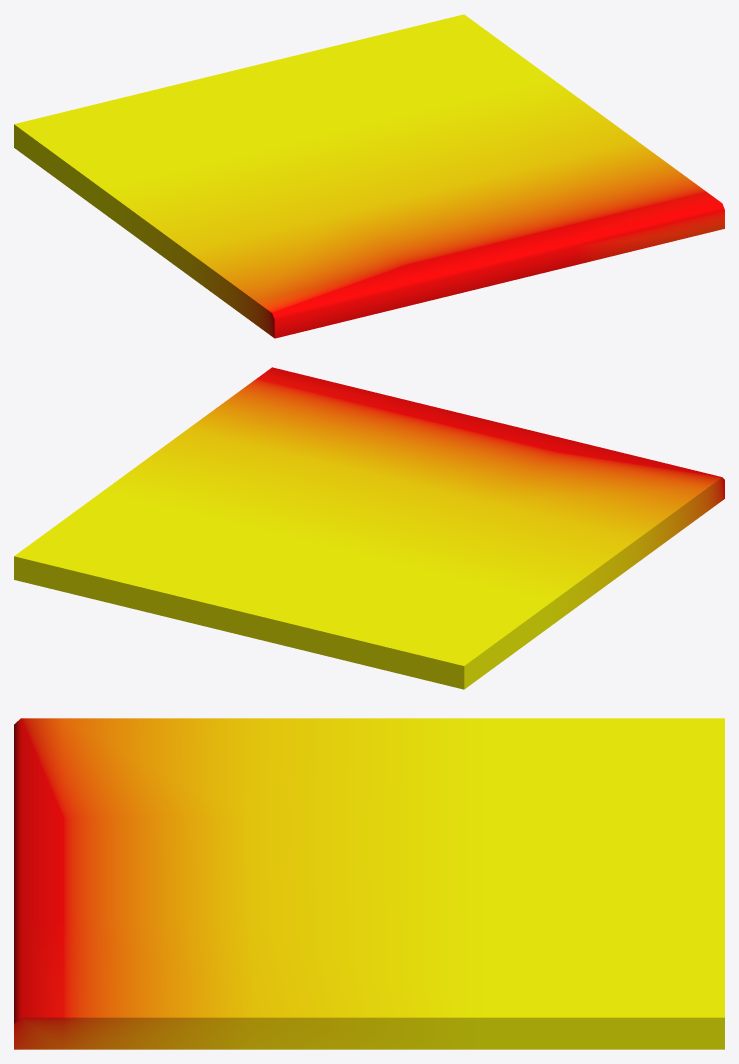
File: sidewalk-straight-3m.glb
3 views of the same model, one above another, from view 1: azimuth 30°, elevation 25°; view 2: azimuth 150°, elevation 25°; view 3: azimuth 270°, elevation 25° (orthographic). The views are drawn at different scales.
Visible parts, largest first — view 1: Sidewalk_Straight_3m; view 2: Sidewalk_Straight_3m; view 3: Sidewalk_Straight_3m.
Part boxes in pixels (x1,y1,x2,y2): Sidewalk_Straight_3m: [14, 14, 724, 338]; Sidewalk_Straight_3m: [14, 367, 724, 689]; Sidewalk_Straight_3m: [14, 718, 724, 1049].
Size of the model in its own units: 3 by 0.15 by 3.01.
Materials: 1 (1 with a texture image).
